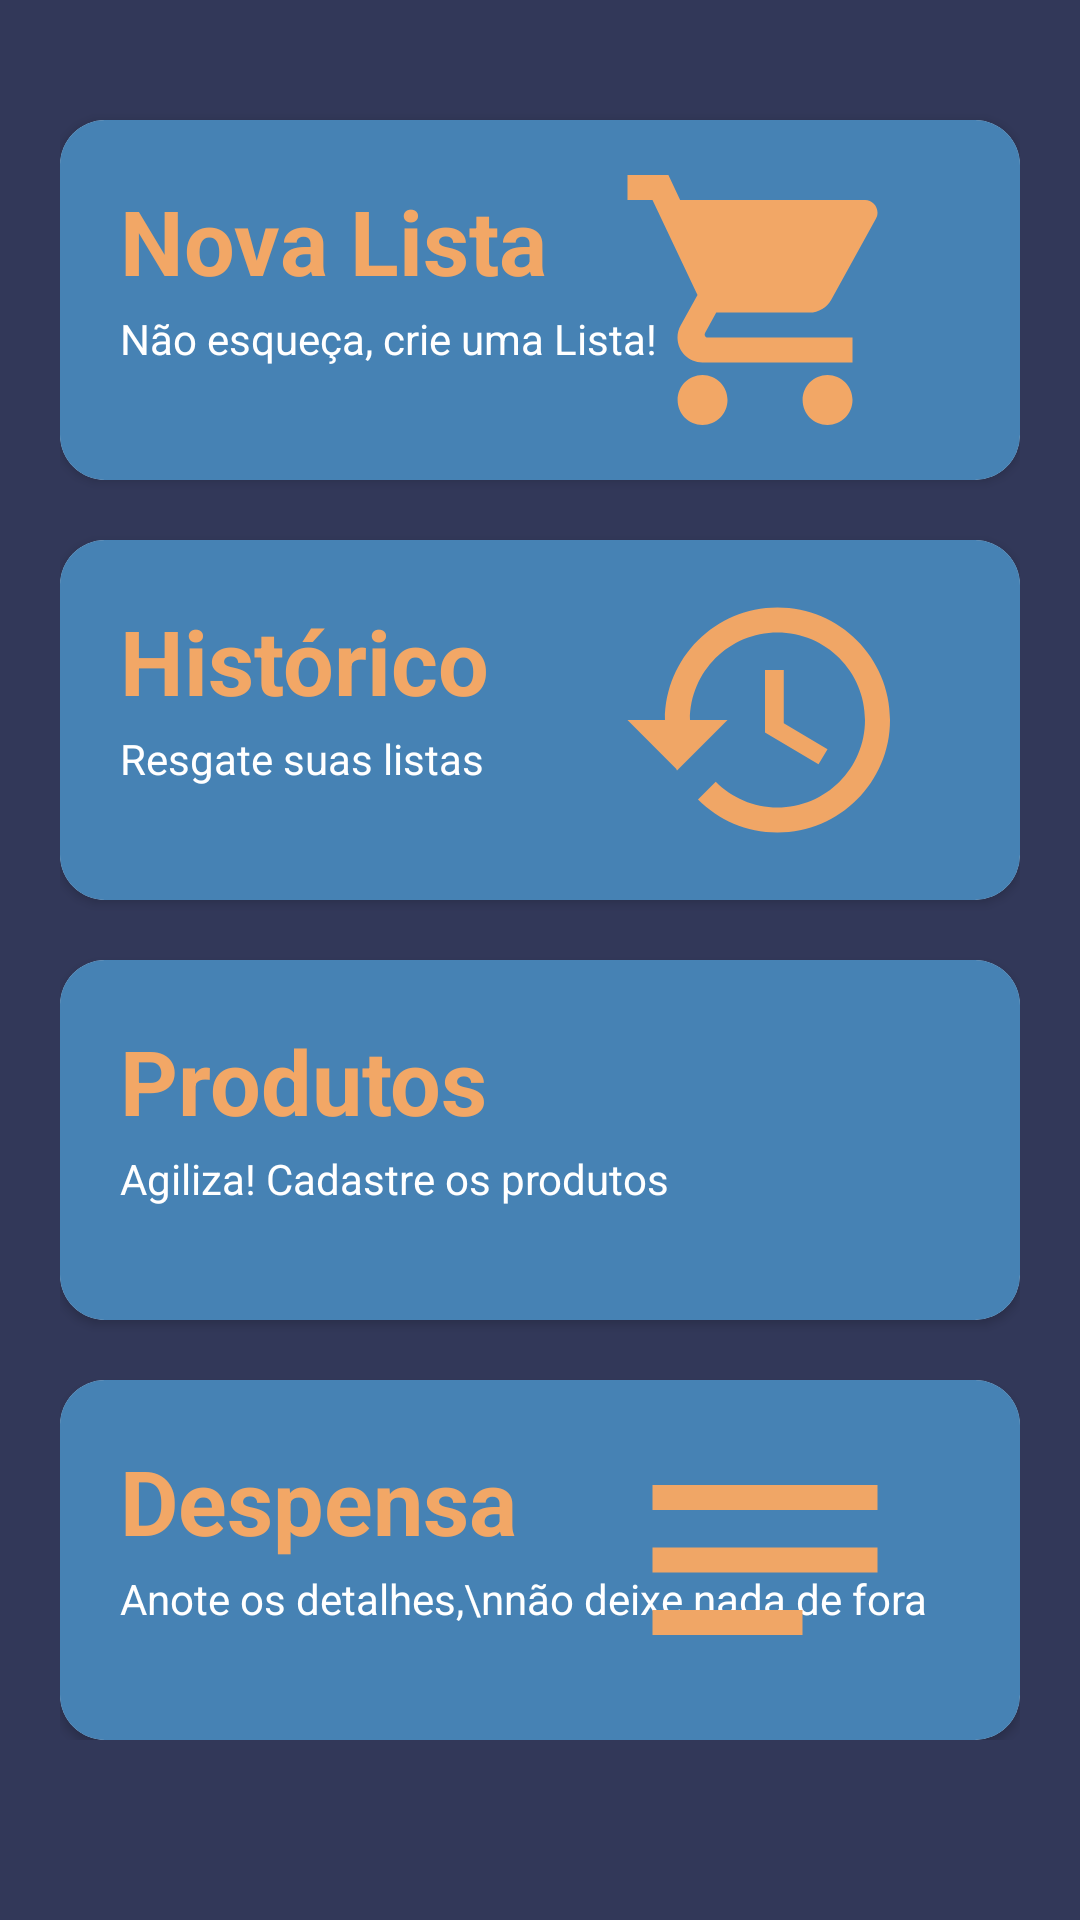

Where to tap for icons on this 1080*1920 app screen, as (x,y):
custom shoppingcart: (717,300)
historic: (759,720)
